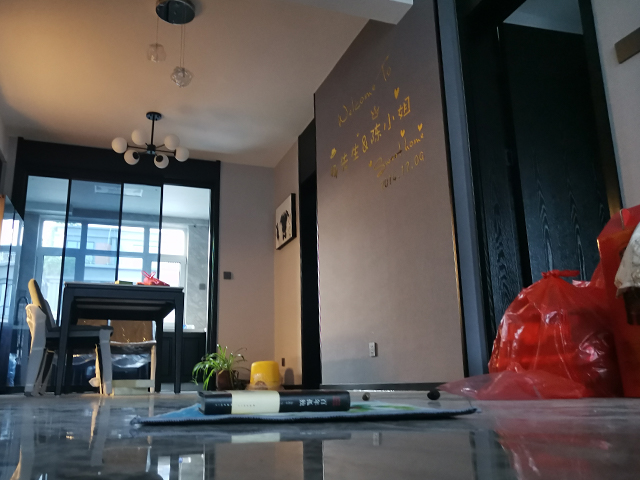book: (193, 387, 353, 416)
carpet: (126, 401, 484, 427)
feces: (422, 389, 443, 403), (361, 390, 371, 402)
stool: (22, 277, 116, 398), (247, 358, 283, 392)
table: (53, 279, 186, 395)
